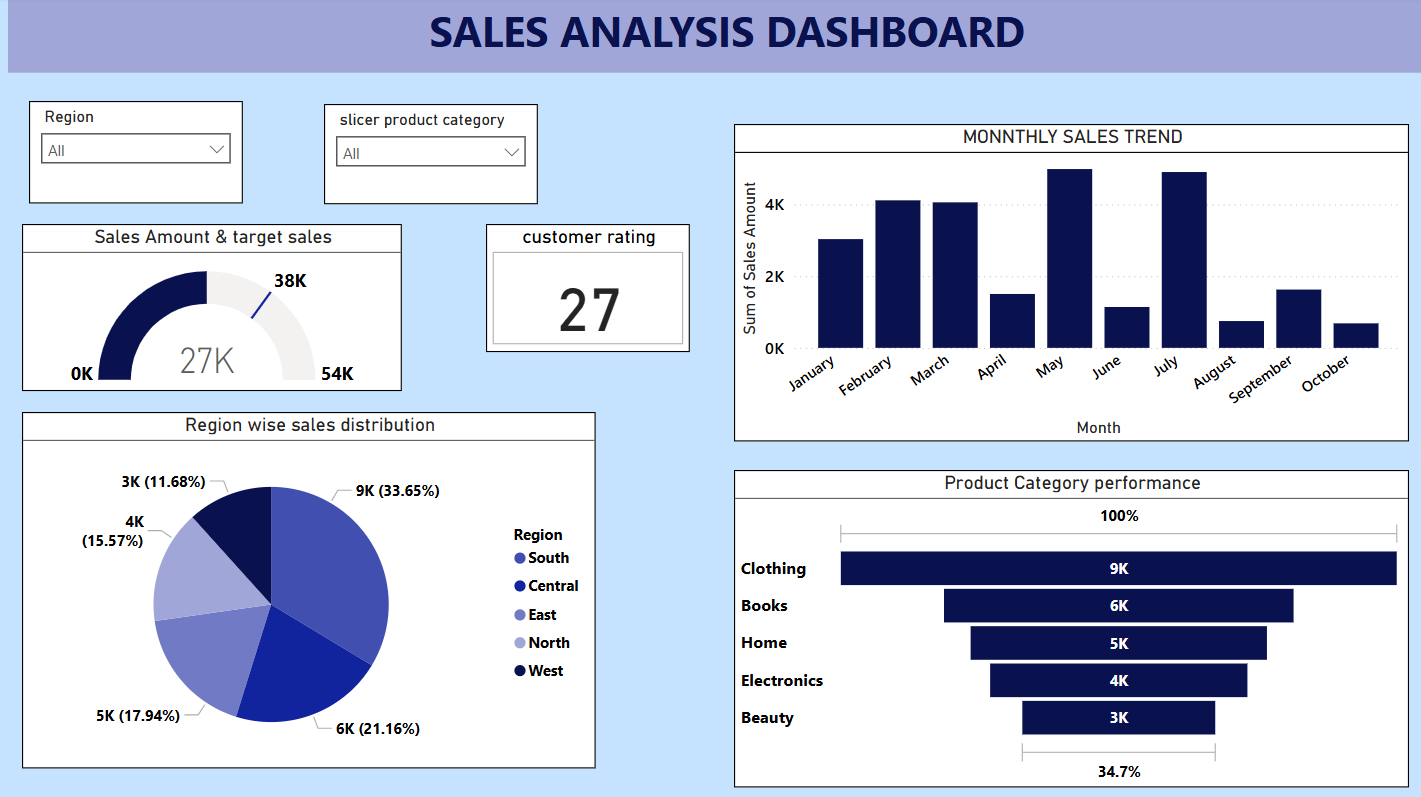

The dashboard page shown, as its layout file describes it:
{"tool":"powerbi","page":{"name":"Page 1","canvas":[1280,720],"ordinal":0},"visuals":[{"type":"textbox","box":[9.7,0,1270.3,68.1],"z":0},{"type":"cardVisual","title":"COUNT OF CUSTOMER RATING","fields":{"Data":["CountNonNull(Ecommerce_Sales_Data.Customer Rating)"]},"box":[784.9,271.4,171.2,127.4],"z":1000},{"type":"columnChart","title":"MONNTHLY SALES TREND","fields":{"Category":["Ecommerce_Sales_Data.Order Date.Variation.Date Hierarchy.Month"],"Y":["Sum(Ecommerce_Sales_Data.Sales Amount)"]},"box":[661.4,113.8,606,285],"z":2000},{"type":"funnel","title":" Product Category performance","fields":{"Category":["Ecommerce_Sales_Data.Product Category"],"Y":["Sum(Ecommerce_Sales_Data.Sales Amount)"]},"box":[661.6,424.6,606,284.6],"z":3000},{"type":"pieChart","title":" Region wise sales distribution","fields":{"Category":["Ecommerce_Sales_Data.Region"],"Y":["Sum(Ecommerce_Sales_Data.Sales Amount)"]},"box":[22.4,372.6,515.3,319.6],"z":4000},{"type":"slicer","fields":{"Values":["Ecommerce_Sales_Data.Product Category"]},"box":[293.6,96.1,192.1,89.8],"z":5000},{"type":"slicer","fields":{"Values":["Ecommerce_Sales_Data.Region"]},"box":[28.7,93.4,192.1,92.5],"z":6000},{"type":"cardVisual","title":"customer rating ","fields":{"Data":["Sum(Ecommerce_Sales_Data.Customer Rating)"]},"box":[439,203.8,183.1,114.9],"z":7000},{"type":"gauge","title":"Sales Amount & target sales","fields":{"Y":["Sum(Ecommerce_Sales_Data.Sales Amount)"],"TargetValue":["Ecommerce_Sales_Data.target sales"]},"box":[22.4,203.8,341.1,149.9],"z":7001}]}

Visuals, with their boxes in screenshot pixels (x1, y1, x2, y2), scaled from the page's 1280x720 canvas onto the 1421x797 screenshot:
textbox: [left=11, top=0, right=1420, bottom=75]
"COUNT OF CUSTOMER RATING" cardVisual: [left=871, top=300, right=1061, bottom=441]
"MONNTHLY SALES TREND" columnChart: [left=734, top=126, right=1407, bottom=441]
" Product Category performance" funnel: [left=734, top=470, right=1407, bottom=785]
" Region wise sales distribution" pieChart: [left=25, top=412, right=597, bottom=766]
slicer - Ecommerce_Sales_Data.Product Category: [left=326, top=106, right=539, bottom=206]
slicer - Ecommerce_Sales_Data.Region: [left=32, top=103, right=245, bottom=206]
"customer rating " cardVisual: [left=487, top=226, right=691, bottom=353]
"Sales Amount & target sales" gauge: [left=25, top=226, right=404, bottom=392]
